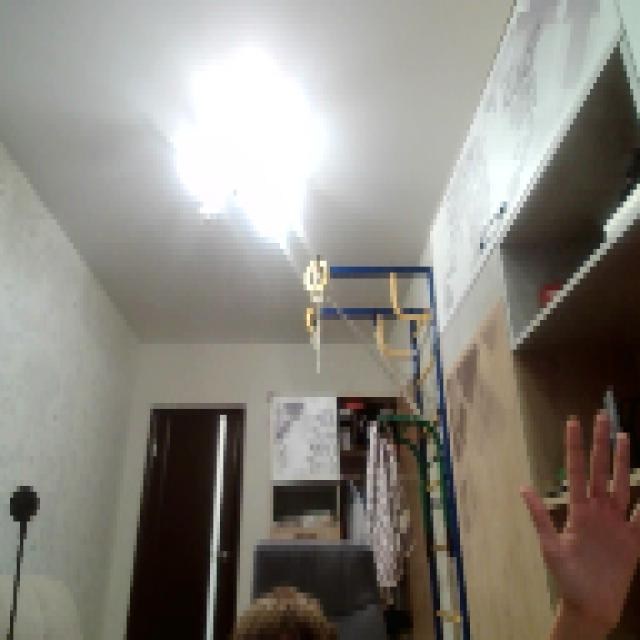hand: (520, 403, 637, 634)
